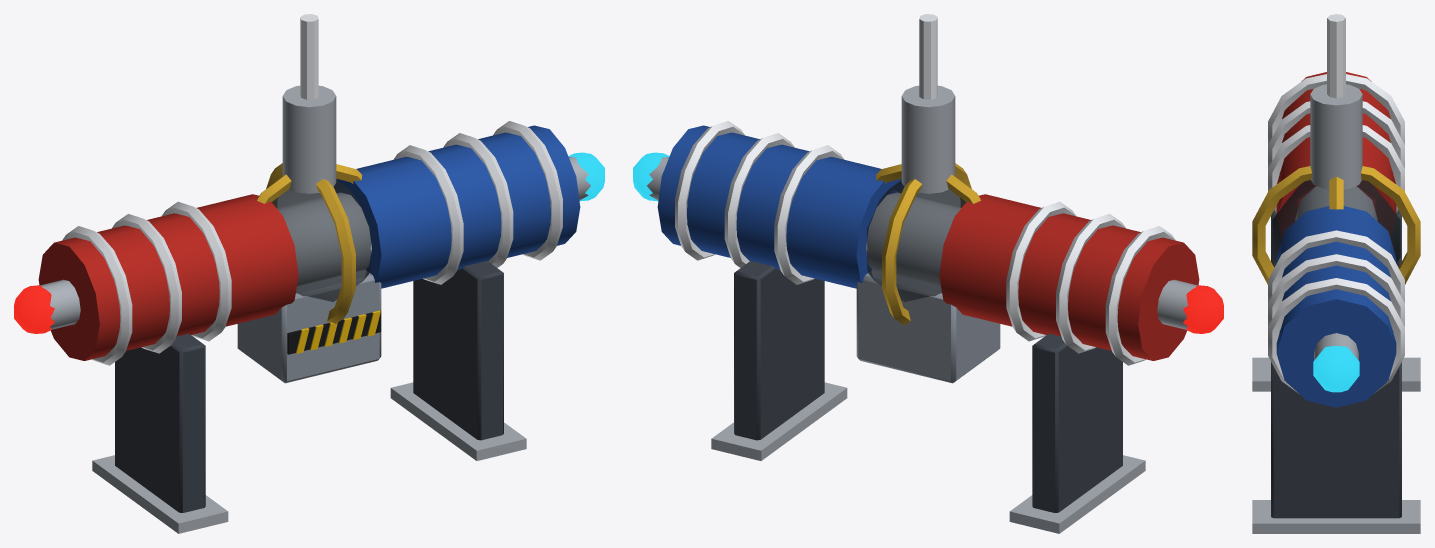
The model's file is reactor_matter_antimatter_injector.glb.
3 views of the same model, side by side, from view 1: azimuth 30°, elevation 25°; view 2: azimuth 150°, elevation 25°; view 3: azimuth 270°, elevation 25° (orthographic). The views are drawn at different scales.
Parts seen in each view (by area): view 1: reactor_matter_antimatter_injector; view 2: reactor_matter_antimatter_injector; view 3: reactor_matter_antimatter_injector.
Part boxes in pixels (x1,y1,x2,y2): reactor_matter_antimatter_injector: (14,14,604,533); reactor_matter_antimatter_injector: (633,14,1223,533); reactor_matter_antimatter_injector: (1252,14,1420,533).
Bounding box in the file's own units: 3.52 × 2.55 × 0.9.
